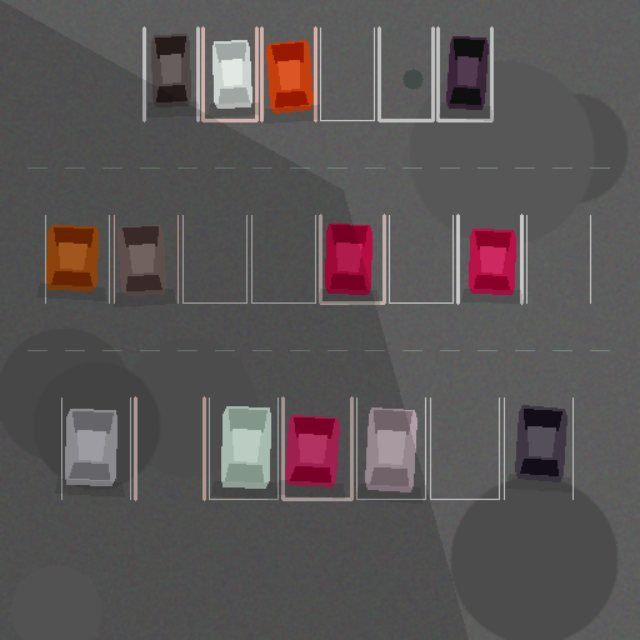space-empty: (135, 397, 204, 499), (430, 397, 499, 499), (251, 215, 315, 303), (389, 215, 453, 303), (526, 215, 590, 303), (183, 215, 246, 303), (320, 27, 374, 120), (379, 27, 432, 120)
space-occupied: (61, 397, 130, 499), (209, 397, 278, 499), (282, 397, 351, 499), (356, 397, 425, 499), (504, 397, 572, 499), (45, 215, 109, 303), (320, 215, 384, 303), (457, 215, 521, 303), (114, 215, 177, 303), (144, 27, 198, 120), (202, 27, 256, 120), (261, 27, 315, 120), (438, 27, 491, 120)
